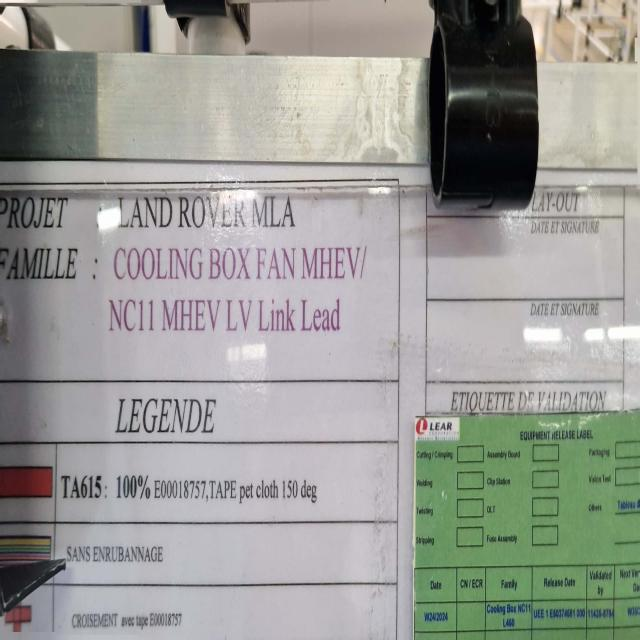Etiquette Familly MHEV_NC11: (2, 153, 639, 640)
